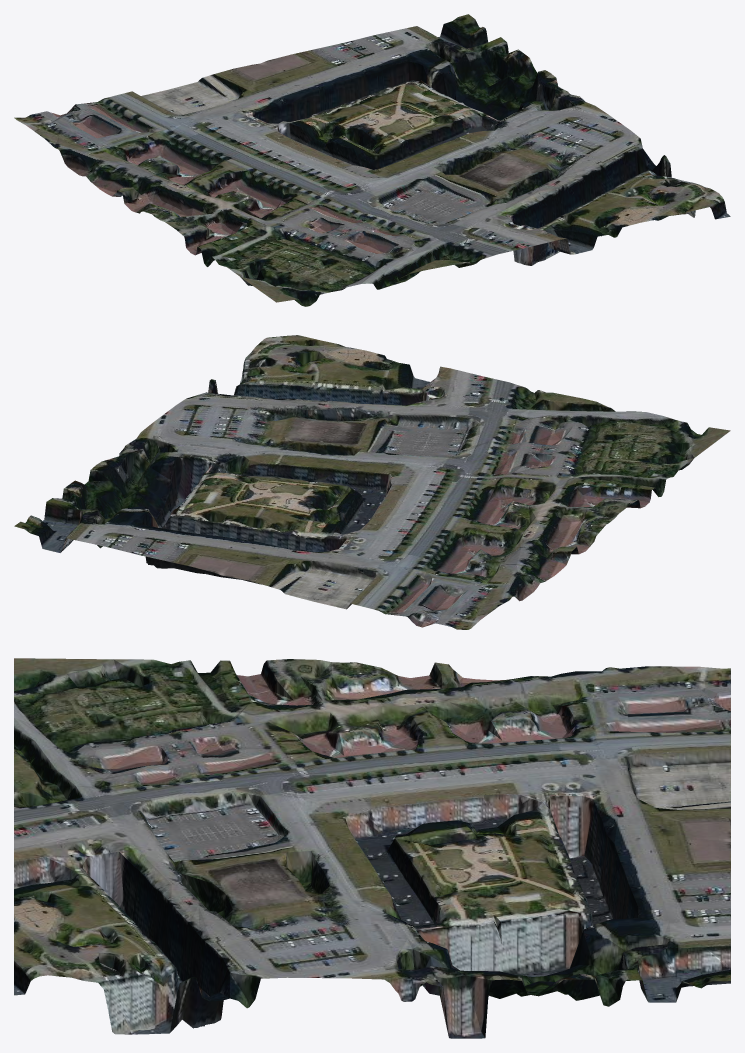
Rendered from map_13_2043_3447.dae.
3 renders of one model, top to bottom at view 1: azimuth 30°, elevation 25°; view 2: azimuth 150°, elevation 25°; view 3: azimuth 270°, elevation 25°, orthographic. The views are drawn at different scales.
Parts seen in each view (by area): view 1: Ter0; view 2: Ter0; view 3: Ter0.
Part boxes in pixels (left/top/right/bottom): Ter0: left=14, top=14, right=730, bottom=306; Ter0: left=14, top=335, right=730, bottom=629; Ter0: left=14, top=658, right=730, bottom=1038.
Size of the model in its own units: 256 by 256 by 31.35.
Materials: 3 (3 with a texture image).
